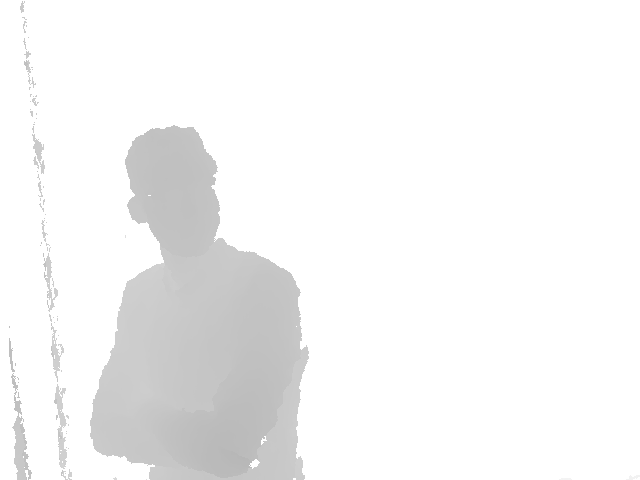head: (124, 125, 221, 259)
person: (88, 125, 313, 480)
